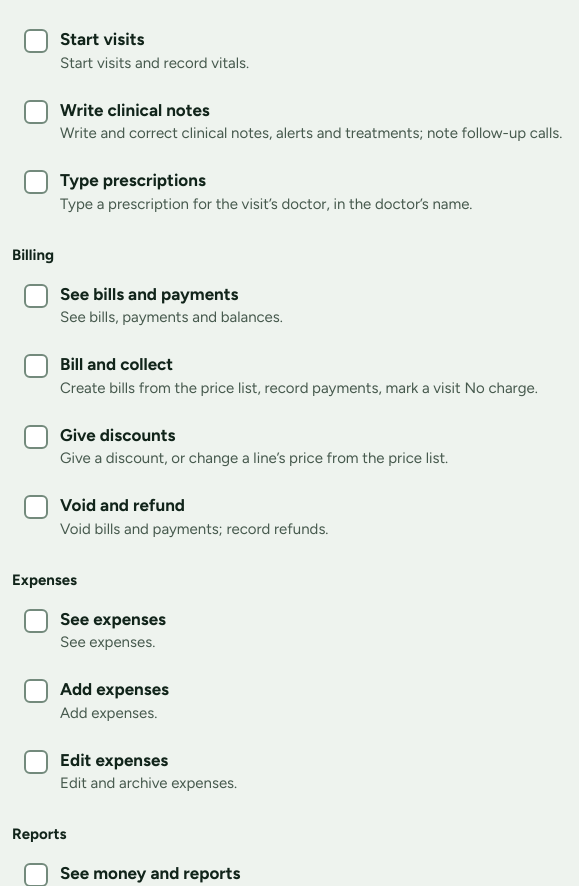
Test: AccessPicker (plan §8.3, D89) › ticks what a permission needs with it, locks it while needed, and turns the preset Custom
(page scrolled)
Click the checkbox labelled "Give discounts" at (36, 436), box [24, 424, 48, 448]
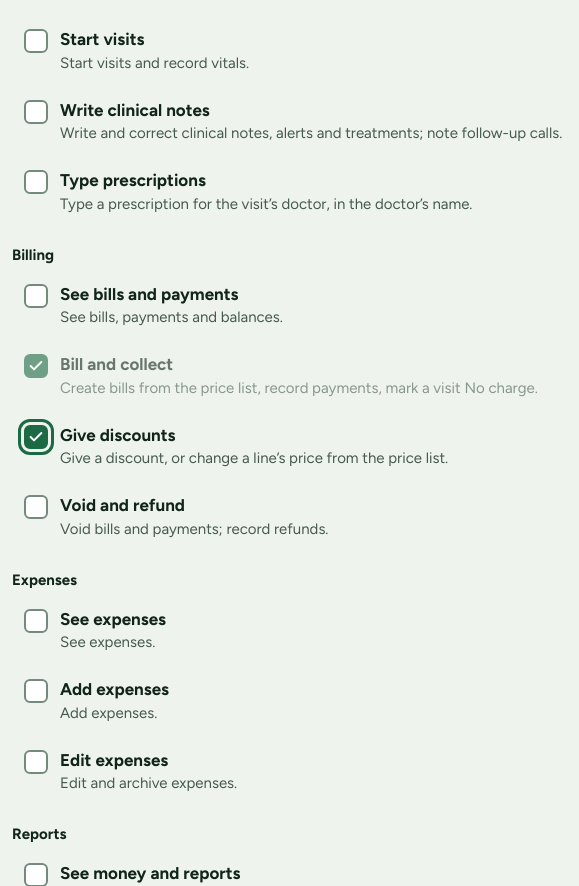
Expected: the checkbox labelled "Bill and collect" is checked, [24, 354, 48, 378]
Click the checkbox labelled "Give discounts" at (36, 436), box [24, 424, 48, 448]
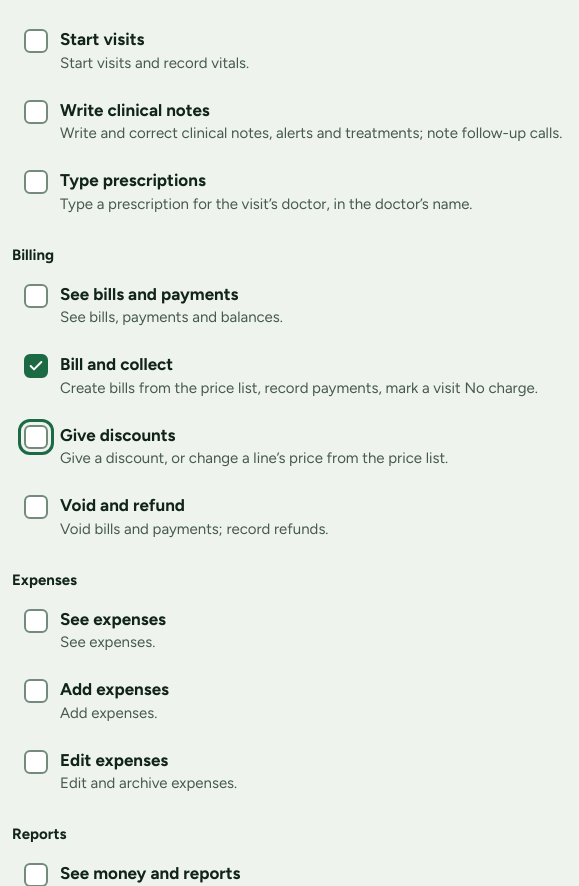
Expected: the checkbox labelled "Give discounts" is not checked, [24, 424, 48, 448]
Expected: the checkbox labelled "Bill and collect" is checked, [24, 354, 48, 378]
Expected: the checkbox labelled "Bill and collect" is enabled, [24, 354, 48, 378]
